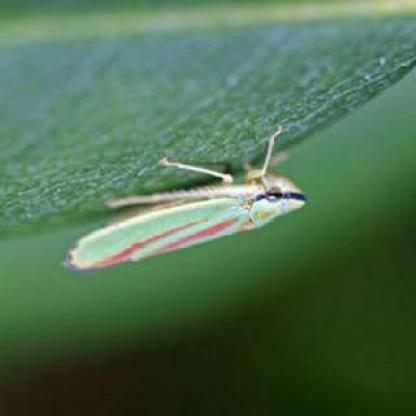green-leafhopper: (63, 160, 317, 275)
